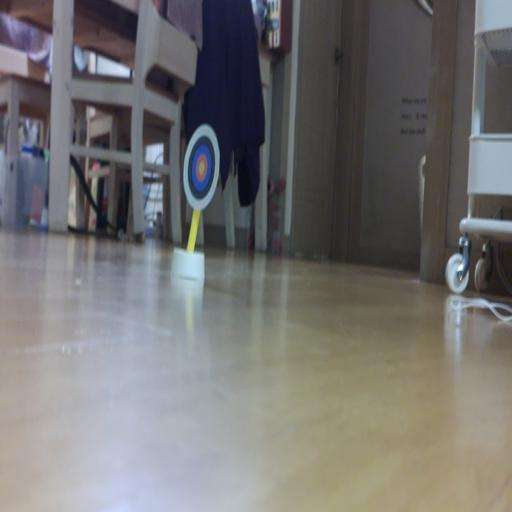target: (183, 124, 220, 210)
